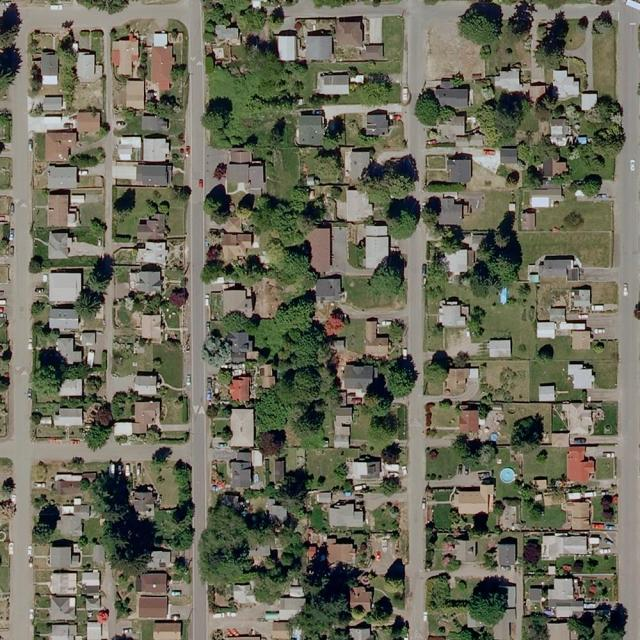building: (539, 572, 587, 623), (269, 580, 314, 626), (136, 214, 168, 266), (528, 253, 583, 283), (449, 484, 498, 517), (136, 571, 169, 619), (336, 146, 373, 186), (334, 188, 375, 224), (540, 532, 589, 560), (51, 331, 87, 369), (111, 34, 141, 77), (47, 190, 80, 228), (561, 401, 594, 438), (48, 270, 83, 303), (295, 109, 325, 146), (226, 328, 256, 365), (307, 226, 331, 272), (45, 129, 78, 162), (150, 45, 174, 90), (566, 445, 595, 482), (342, 363, 376, 394), (130, 483, 159, 519), (53, 471, 98, 494), (437, 296, 469, 328), (328, 500, 365, 527), (48, 540, 82, 569), (229, 409, 254, 448), (222, 232, 254, 262), (260, 495, 292, 525), (365, 318, 389, 357), (222, 286, 252, 317), (326, 535, 357, 565), (561, 500, 592, 530), (528, 186, 565, 211), (130, 265, 163, 293), (347, 583, 376, 614), (336, 16, 364, 48), (136, 162, 173, 186), (346, 455, 381, 480), (552, 68, 580, 99), (365, 235, 390, 269), (333, 406, 353, 448), (493, 66, 523, 94), (306, 30, 333, 61), (48, 190, 70, 228), (81, 570, 101, 611), (437, 195, 463, 226), (246, 539, 275, 566), (316, 71, 350, 94), (315, 275, 343, 302), (445, 249, 472, 277), (117, 134, 143, 163), (447, 154, 473, 183), (132, 399, 162, 424), (142, 135, 169, 162), (568, 362, 595, 389), (75, 50, 97, 83), (276, 28, 298, 61), (48, 165, 78, 189), (227, 373, 251, 403), (139, 595, 169, 618), (496, 537, 518, 568), (50, 571, 78, 595), (435, 88, 470, 107), (49, 307, 79, 329), (50, 596, 76, 621), (459, 402, 479, 434), (55, 515, 84, 537), (110, 161, 139, 183), (152, 620, 183, 640), (125, 78, 145, 109), (141, 314, 162, 343), (230, 460, 251, 489), (366, 110, 389, 136), (54, 473, 83, 493), (232, 582, 256, 606), (76, 111, 101, 134), (549, 117, 568, 147), (214, 24, 242, 44), (54, 408, 83, 427), (147, 549, 173, 570), (132, 375, 158, 396), (570, 285, 591, 311), (548, 578, 574, 599), (49, 231, 69, 258), (226, 162, 250, 184), (269, 457, 288, 484), (461, 613, 485, 634), (249, 161, 265, 191), (81, 570, 100, 595), (544, 158, 569, 177), (41, 50, 59, 76), (258, 363, 276, 389), (488, 338, 511, 358), (142, 114, 169, 131), (58, 378, 83, 396), (528, 81, 548, 103), (537, 382, 557, 403), (50, 624, 76, 640), (361, 42, 384, 60), (230, 147, 253, 164), (571, 330, 591, 349), (222, 216, 243, 234), (536, 321, 556, 339), (520, 209, 536, 231), (581, 91, 598, 111), (42, 95, 62, 111), (86, 621, 103, 639), (548, 306, 567, 322), (114, 421, 134, 436), (365, 225, 388, 238), (152, 30, 169, 47), (500, 146, 516, 164), (92, 544, 105, 564), (80, 331, 96, 347), (505, 585, 516, 608), (251, 449, 264, 468), (74, 505, 90, 520), (316, 491, 333, 504), (214, 593, 229, 607), (440, 77, 455, 91), (132, 422, 148, 435), (529, 587, 541, 603), (85, 349, 95, 367), (236, 450, 251, 462), (308, 544, 318, 561), (70, 193, 85, 204), (60, 504, 75, 515), (42, 75, 58, 85), (246, 351, 260, 361), (38, 416, 53, 425), (74, 498, 81, 505)
dryland: (425, 21, 484, 81)
greenland: (74, 462, 171, 582), (218, 292, 334, 388), (247, 347, 349, 453), (458, 206, 543, 309), (250, 176, 322, 294), (358, 154, 428, 244), (559, 114, 628, 202), (241, 535, 320, 610), (450, 283, 535, 352), (195, 497, 253, 590), (463, 78, 531, 153), (424, 571, 510, 628), (361, 334, 429, 402), (534, 335, 620, 388), (422, 432, 512, 481), (111, 182, 191, 235), (342, 250, 409, 310), (458, 177, 518, 244), (517, 231, 613, 271), (534, 90, 623, 133), (242, 464, 313, 516), (154, 460, 194, 550), (364, 373, 403, 464), (556, 554, 618, 604), (199, 182, 258, 234), (201, 244, 268, 286), (515, 135, 564, 189), (303, 446, 359, 493), (532, 8, 573, 72), (26, 343, 71, 401), (123, 457, 175, 507), (307, 116, 347, 181), (501, 478, 553, 526), (352, 64, 401, 114), (536, 201, 613, 231), (32, 453, 110, 482), (416, 346, 457, 400), (489, 24, 532, 75), (456, 0, 503, 46), (244, 509, 298, 549), (56, 21, 79, 109), (527, 359, 574, 401), (425, 521, 462, 571), (0, 4, 21, 89), (592, 24, 616, 97), (369, 251, 405, 297), (143, 89, 185, 128), (425, 219, 464, 260), (84, 251, 120, 295), (32, 493, 61, 545), (524, 446, 568, 480), (423, 250, 452, 301), (153, 341, 184, 388), (85, 401, 114, 450), (412, 87, 446, 128), (72, 286, 106, 323), (511, 414, 544, 450), (115, 429, 189, 445), (70, 214, 107, 246), (33, 397, 89, 417), (429, 608, 468, 636), (67, 146, 106, 173), (563, 14, 590, 52), (526, 505, 567, 530), (382, 16, 405, 60), (303, 505, 334, 536), (518, 105, 546, 138), (110, 391, 139, 422), (372, 502, 401, 533), (161, 394, 189, 424), (386, 318, 410, 352), (594, 402, 618, 436), (32, 320, 60, 348), (376, 471, 404, 499), (470, 512, 501, 537), (522, 613, 549, 640), (79, 517, 107, 543), (592, 494, 616, 522), (43, 257, 98, 269), (589, 10, 615, 35), (422, 193, 447, 219), (77, 1, 129, 13), (25, 252, 49, 277), (112, 219, 136, 243), (522, 538, 542, 565), (149, 446, 172, 469), (62, 362, 93, 379), (172, 556, 191, 583), (595, 456, 616, 479), (432, 505, 451, 530), (267, 5, 287, 27), (30, 62, 42, 94), (85, 375, 102, 394), (536, 344, 556, 360), (31, 299, 47, 317), (439, 106, 456, 122), (262, 1, 299, 8), (312, 1, 355, 7), (140, 621, 154, 639)
metalled_road: (614, 2, 640, 640), (405, 376, 428, 640), (399, 103, 438, 200), (31, 436, 163, 463), (402, 229, 426, 372), (207, 597, 278, 640), (97, 561, 116, 638), (334, 0, 403, 16), (561, 1, 607, 19), (164, 436, 191, 465), (283, 0, 323, 19), (532, 0, 562, 23), (15, 27, 28, 65), (0, 441, 14, 461), (324, 6, 340, 10)
